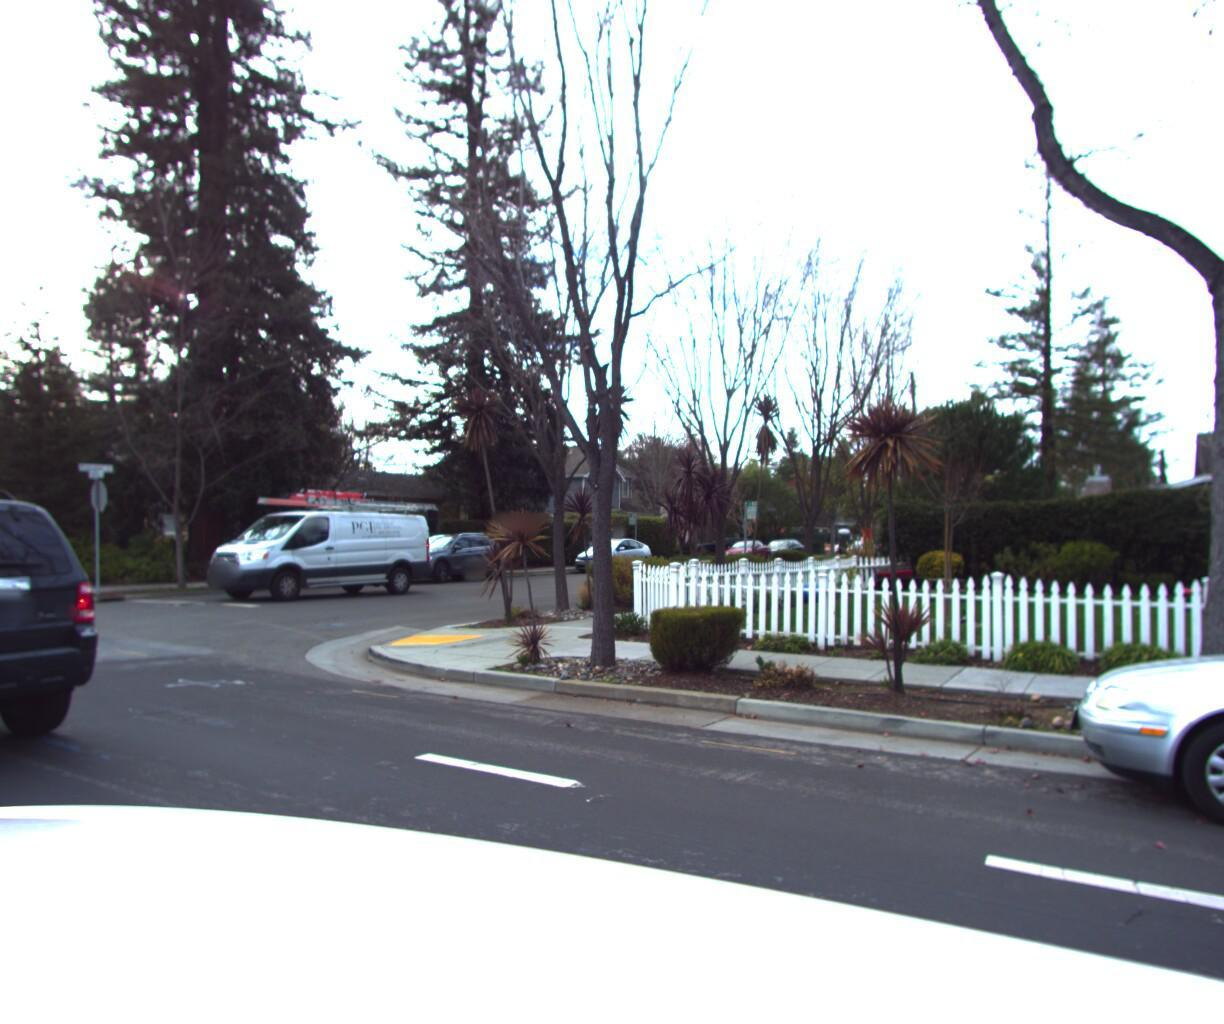car: (1048, 552, 1224, 989), (0, 468, 136, 811), (183, 478, 446, 604), (375, 534, 513, 588), (565, 537, 656, 574), (714, 538, 775, 565), (752, 538, 805, 561)
